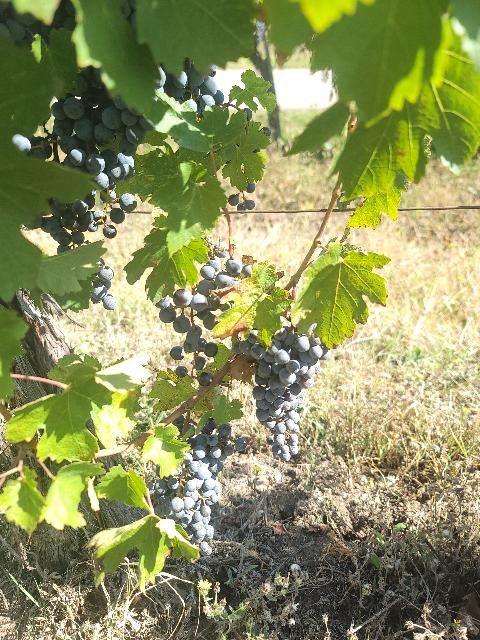grapes: (51, 69, 149, 224), (249, 325, 331, 461), (150, 452, 221, 550), (30, 201, 116, 252), (188, 418, 246, 472)
